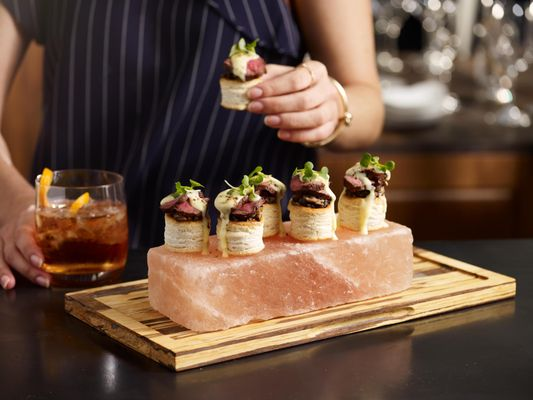sandwich: (413, 248, 489, 280)
